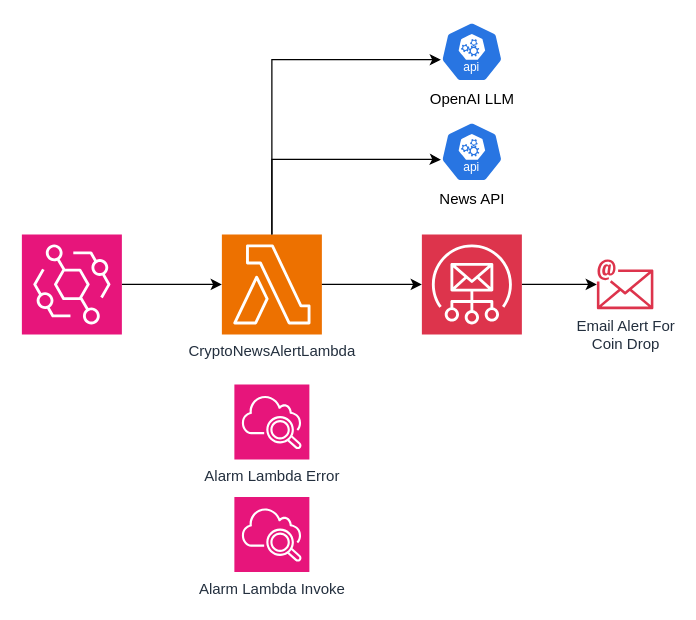
This 696x620 diagram has some shape labels left out. Each missing label, with the centre of its shape:
"Daily Trigger" belongs at [71,283].
"SES Send Email" belongs at [471,283].
